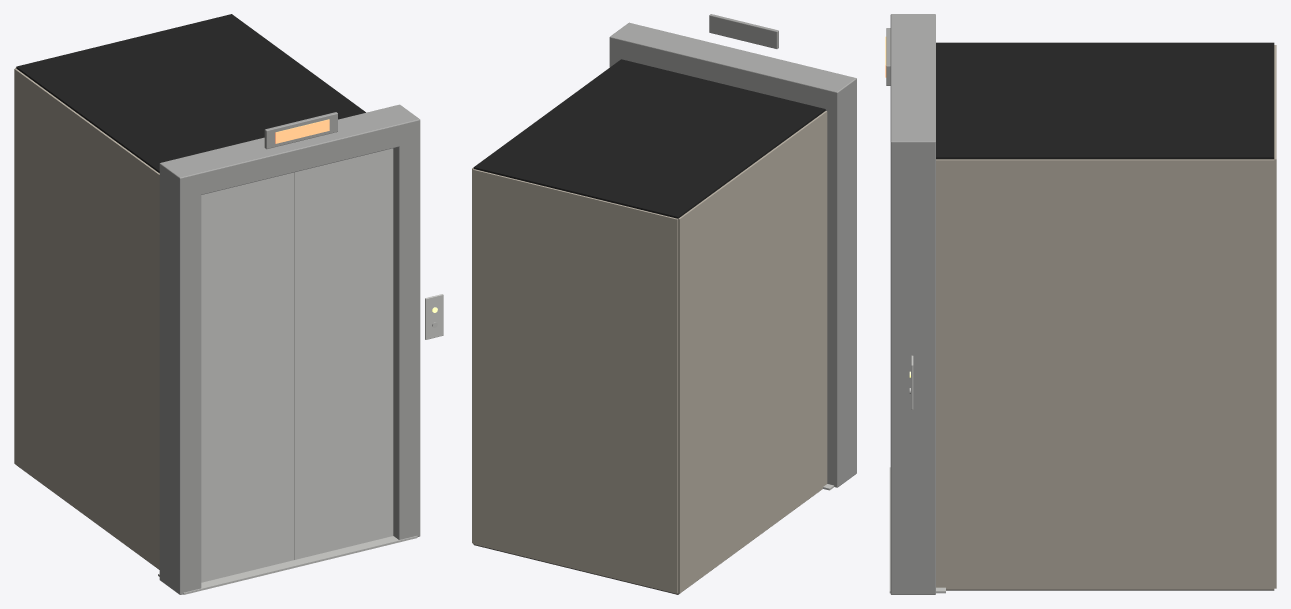
The model's file is elevator.glb.
3 renders of one model, left to right at view 1: azimuth 30°, elevation 25°; view 2: azimuth 150°, elevation 25°; view 3: azimuth 270°, elevation 25°, orthographic. The views are drawn at different scales.
Parts seen in each view (by area): view 1: ElevatorFrame, DoorR, DoorL, ElevatorLights; view 2: ElevatorFrame; view 3: ElevatorFrame.
Boxes of the visible parts, left/top/right/bottom form: ElevatorFrame: left=14, top=14, right=443, bottom=594; DoorR: left=294, top=148, right=393, bottom=559; DoorL: left=201, top=172, right=294, bottom=582; ElevatorLights: left=275, top=119, right=437, bottom=327; ElevatorFrame: left=472, top=14, right=856, bottom=594; ElevatorFrame: left=886, top=14, right=1276, bottom=594.
Bounding box in the file's own units: 1.52 × 2.38 × 1.73.
